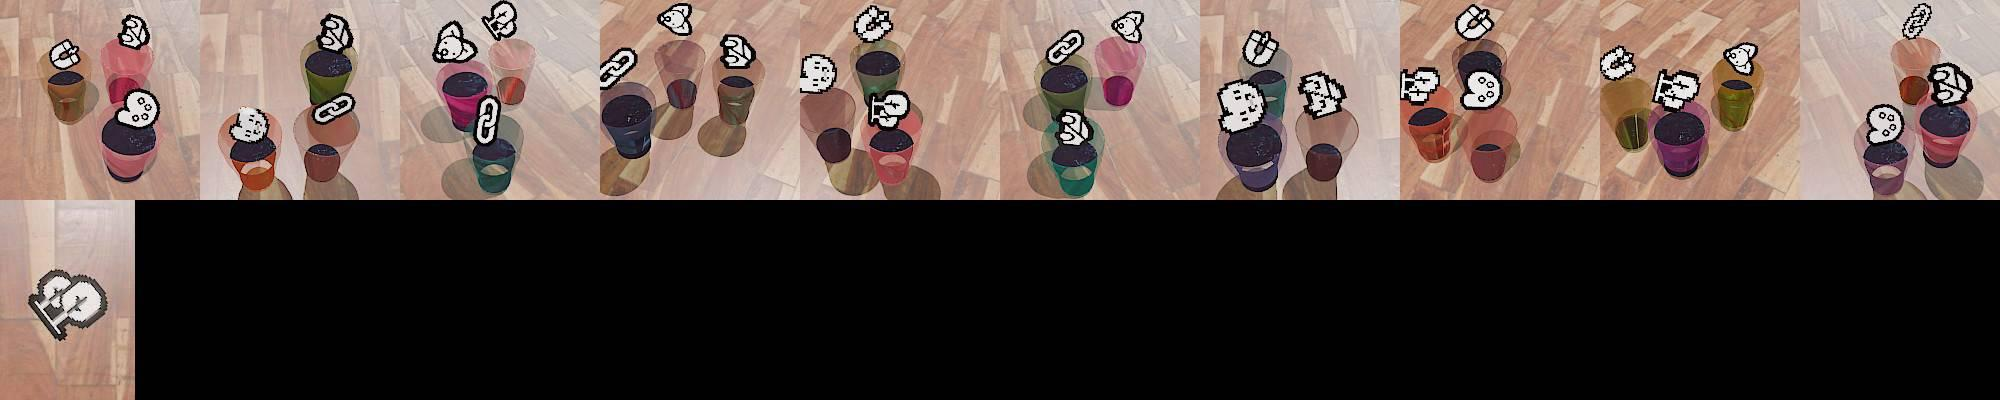icon: (27, 266, 110, 343), (1216, 78, 1267, 134), (1297, 70, 1348, 120), (1652, 68, 1702, 112), (431, 19, 478, 65), (115, 85, 161, 131), (1926, 62, 1972, 104), (866, 89, 911, 130), (1459, 69, 1503, 110), (797, 51, 838, 94), (598, 46, 638, 90), (852, 4, 894, 43), (1399, 66, 1443, 104), (1242, 27, 1282, 68), (1043, 28, 1085, 66), (228, 104, 270, 143), (1866, 103, 1904, 144), (481, 0, 519, 41), (1054, 107, 1093, 145), (1454, 4, 1495, 41), (316, 13, 353, 54), (473, 93, 501, 145), (311, 93, 357, 125), (1598, 45, 1635, 82), (719, 33, 756, 68), (657, 3, 694, 37), (1722, 41, 1758, 75), (1111, 9, 1145, 45), (117, 14, 151, 51), (1902, 3, 1932, 41), (48, 38, 80, 70)
